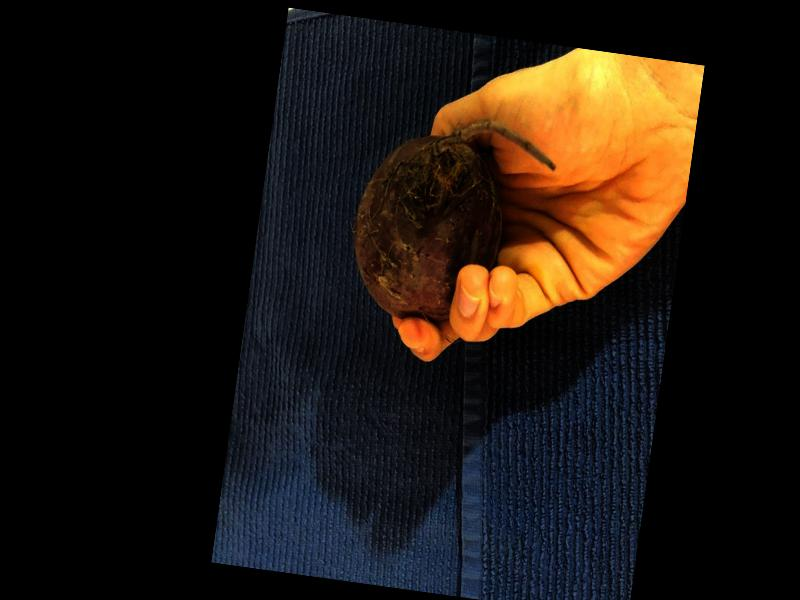Beet: (344, 106, 563, 336)
